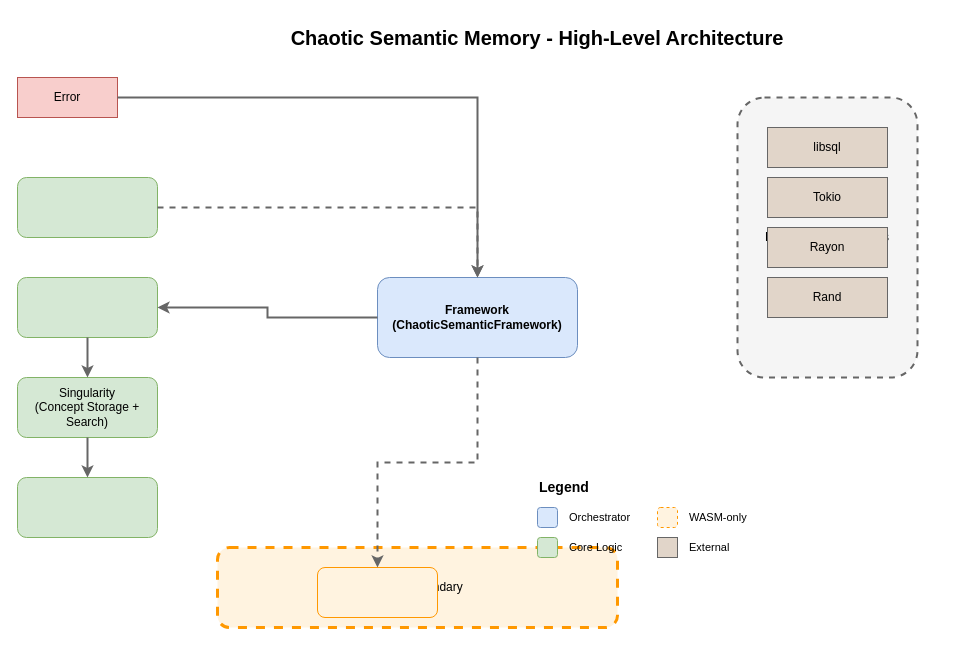
This 955x646 diagram has some shape labels left out. Each missing label, with the centre of its shape:
Hyperdim (HVec10240): point 87,207
Persistence (libsql + Tokio): point 87,507
Reservoir (Echo State Network): point 87,307
WASM (WASM-specific bindings): point 377,592
